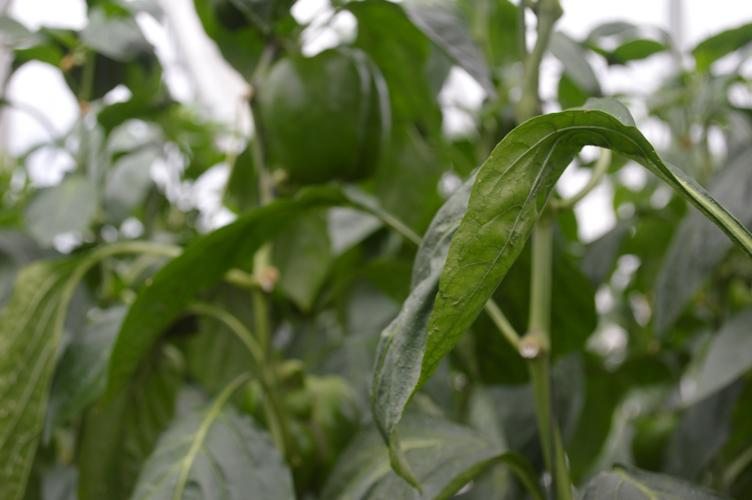BellPepper: (253, 43, 385, 184)
